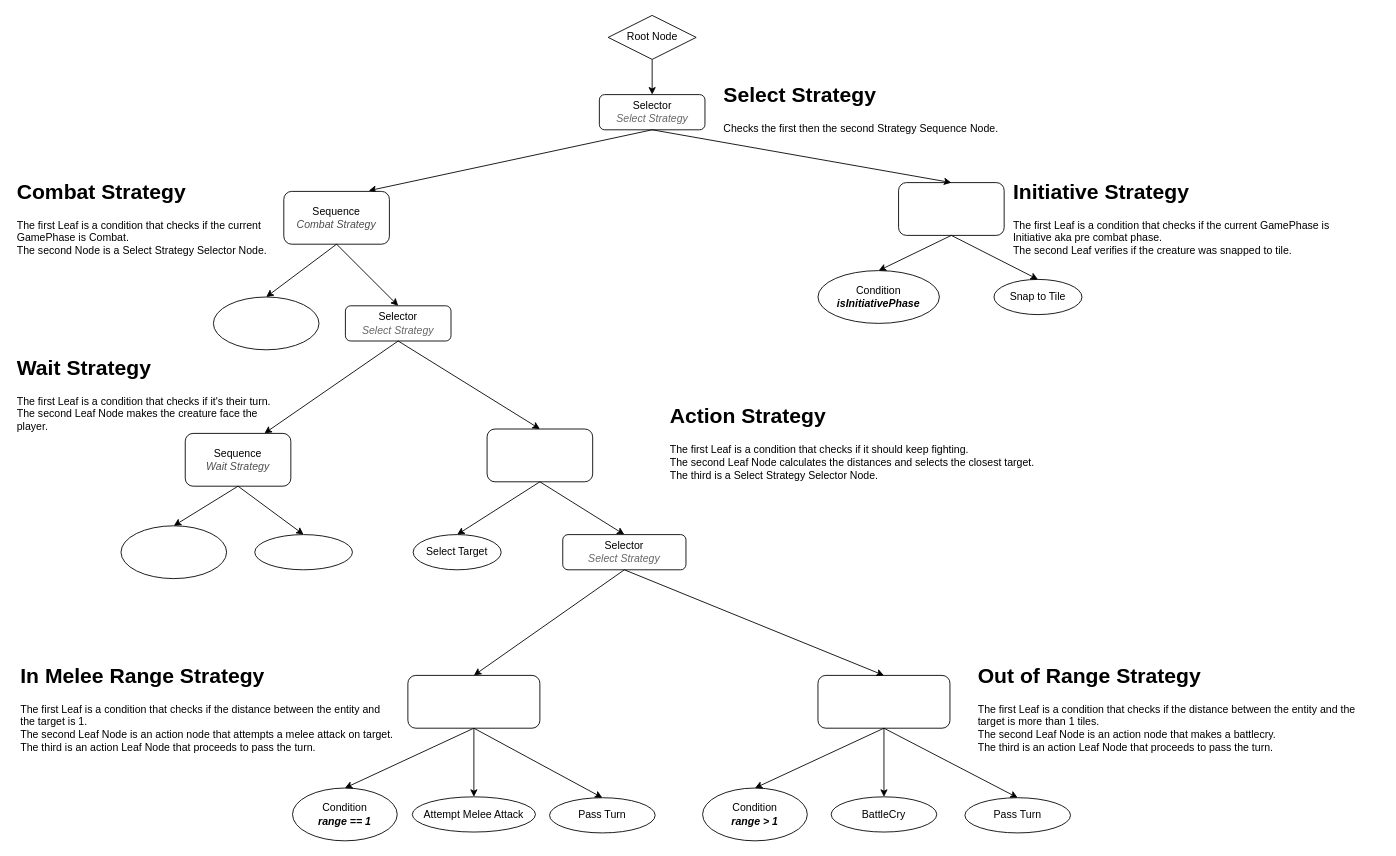
Some shapes in this 1396 by 856 pixel diagram are drawn without their labels. Each missing label, with the box of its shape:
Condition !isTheirTurn: (120, 525, 227, 579)
Condition isCombat: (213, 296, 319, 350)
Face the Player: (254, 534, 352, 570)
Sequence Action Strategy: (486, 428, 593, 482)
Sequence In Melee Range Strategy: (407, 675, 540, 728)
Sequence Initiative Strategy: (898, 182, 1004, 235)
Sequence Out of Range Strategy: (817, 675, 950, 728)
